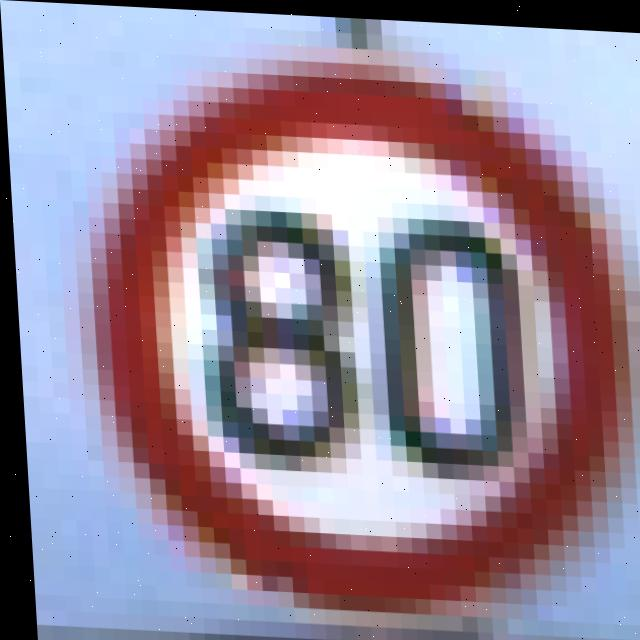speed_limit_80: (74, 47, 640, 608)
